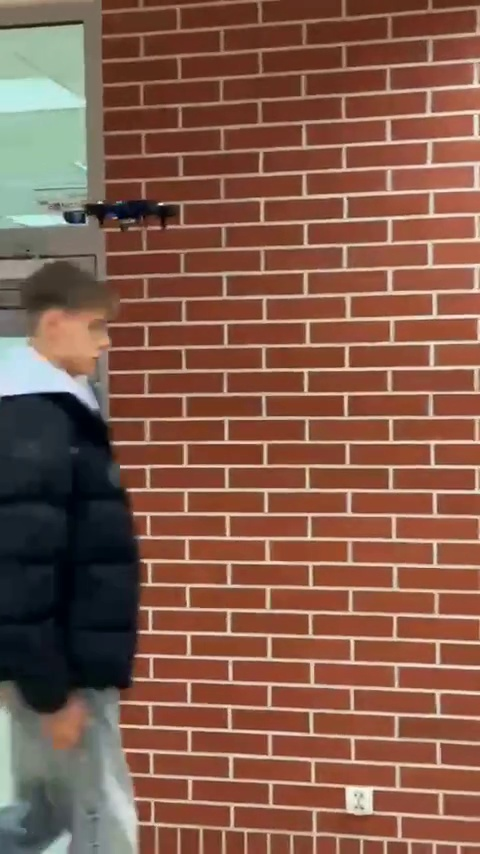drone: (74, 196, 182, 231)
no vest: (0, 255, 159, 847)
